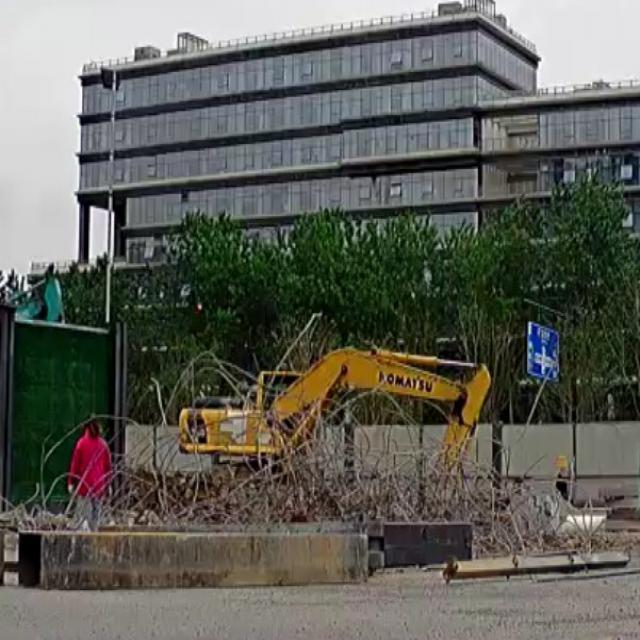excavator: (180, 349, 499, 489)
